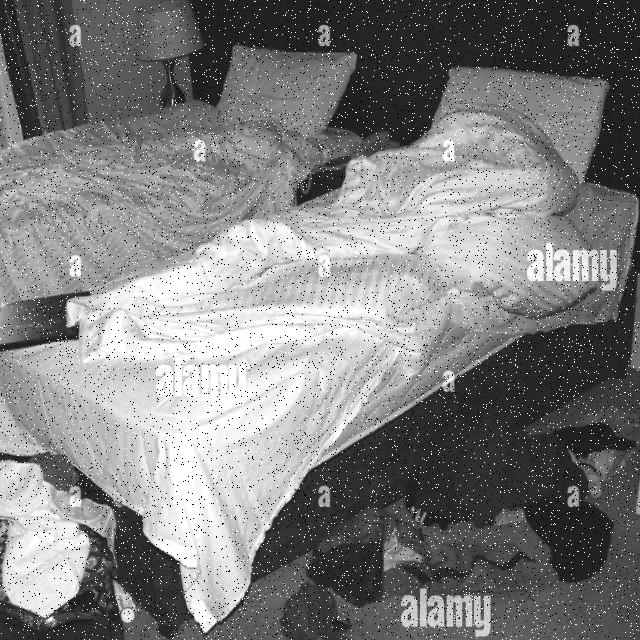bed: (0, 74, 640, 569), (0, 44, 372, 264)
